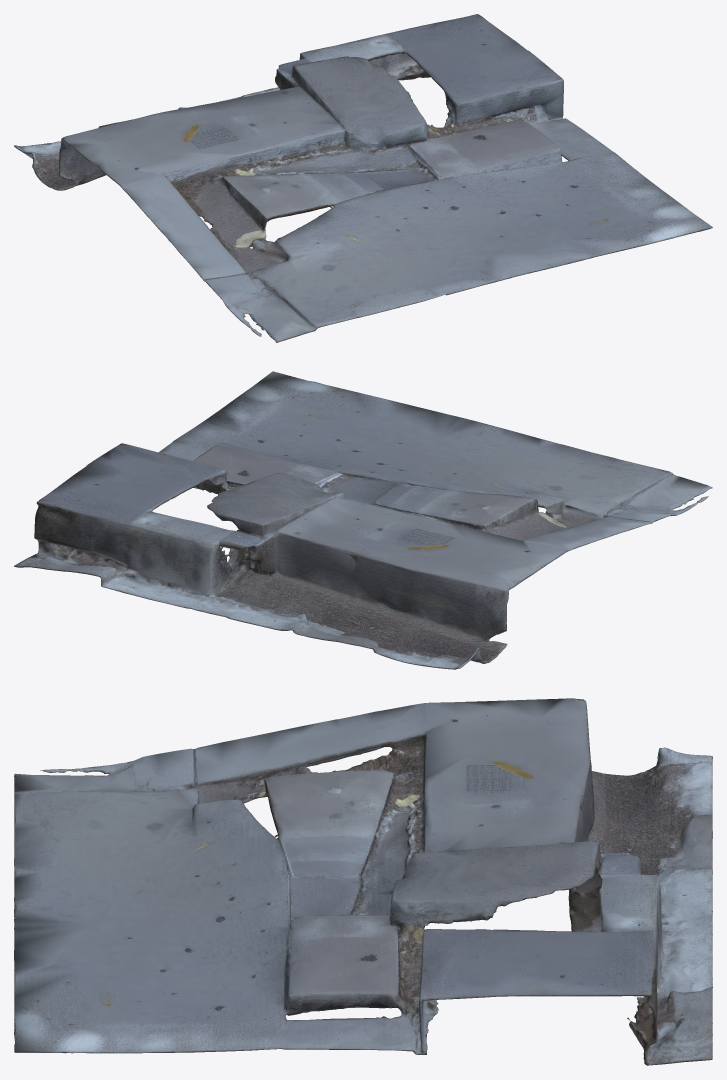
Rendered from uneven_7.glb.
3 views of the same model, one above another, from view 1: azimuth 30°, elevation 25°; view 2: azimuth 150°, elevation 25°; view 3: azimuth 270°, elevation 25° (orthographic). The views are drawn at different scales.
Visible parts, largest first — view 1: Mesh_0; view 2: Mesh_0; view 3: Mesh_0.
Boxes of the visible parts, <box> form: Mesh_0: <box>14,14,712,342</box>; Mesh_0: <box>14,371,712,669</box>; Mesh_0: <box>14,698,712,1065</box>.
Size of the model in its own units: 1.91 by 0.2841 by 1.91.
1 material, 1 textured.
